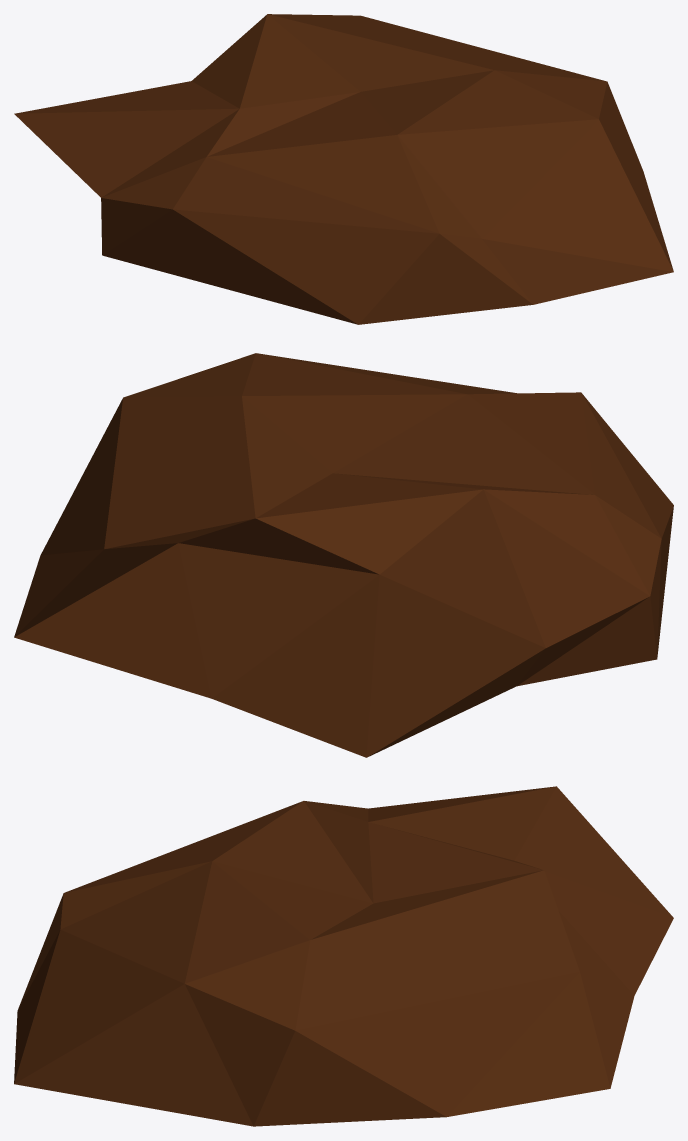
File: RocksB.fbx
3 renders of one model, top to bottom at view 1: azimuth 30°, elevation 25°; view 2: azimuth 150°, elevation 25°; view 3: azimuth 270°, elevation 25°, orthographic. The views are drawn at different scales.
Visible parts, largest first — view 1: RocksB; view 2: RocksB; view 3: RocksB.
Boxes of the visible parts, x1=… form: RocksB: x1=14, y1=14, x2=673, y2=324; RocksB: x1=14, y1=353, x2=673, y2=757; RocksB: x1=14, y1=786, x2=673, y2=1126.
Bounding box in the file's own units: 40.31 × 9.28 × 43.21.
